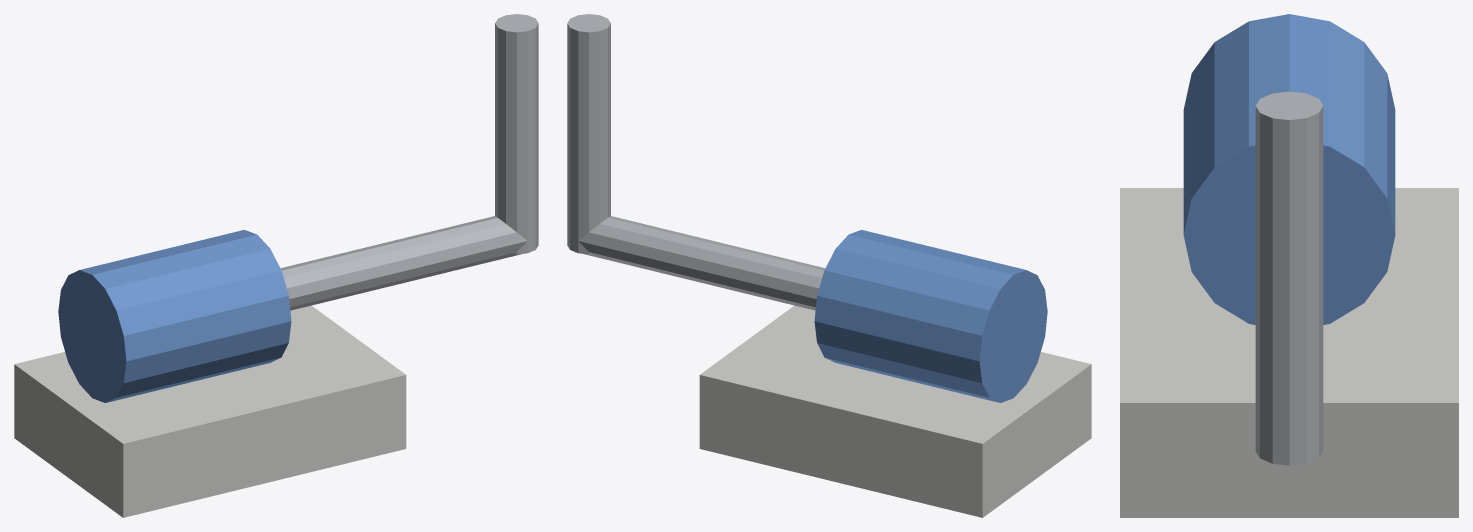
File: pump.glb
The picture shows the model from 3 angles, left to right: view 1: azimuth 30°, elevation 25°; view 2: azimuth 150°, elevation 25°; view 3: azimuth 270°, elevation 25°; orthographic projection. The views are drawn at different scales.
Visible parts, largest first — view 1: plinth, motor, intake, riser; view 2: plinth, motor, intake, riser; view 3: plinth, motor, riser.
Part boxes in pixels (x1,y1,x2,y2): plinth: (14, 305, 406, 517); motor: (58, 230, 291, 402); intake: (280, 216, 527, 310); riser: (495, 14, 538, 254); plinth: (699, 305, 1091, 517); motor: (814, 230, 1047, 402); intake: (578, 216, 825, 310); riser: (567, 14, 610, 254); plinth: (1120, 188, 1458, 517); motor: (1183, 14, 1395, 324); riser: (1255, 91, 1323, 465).
Bounding box in the file's own units: 1.98 × 1.4 × 0.8.
